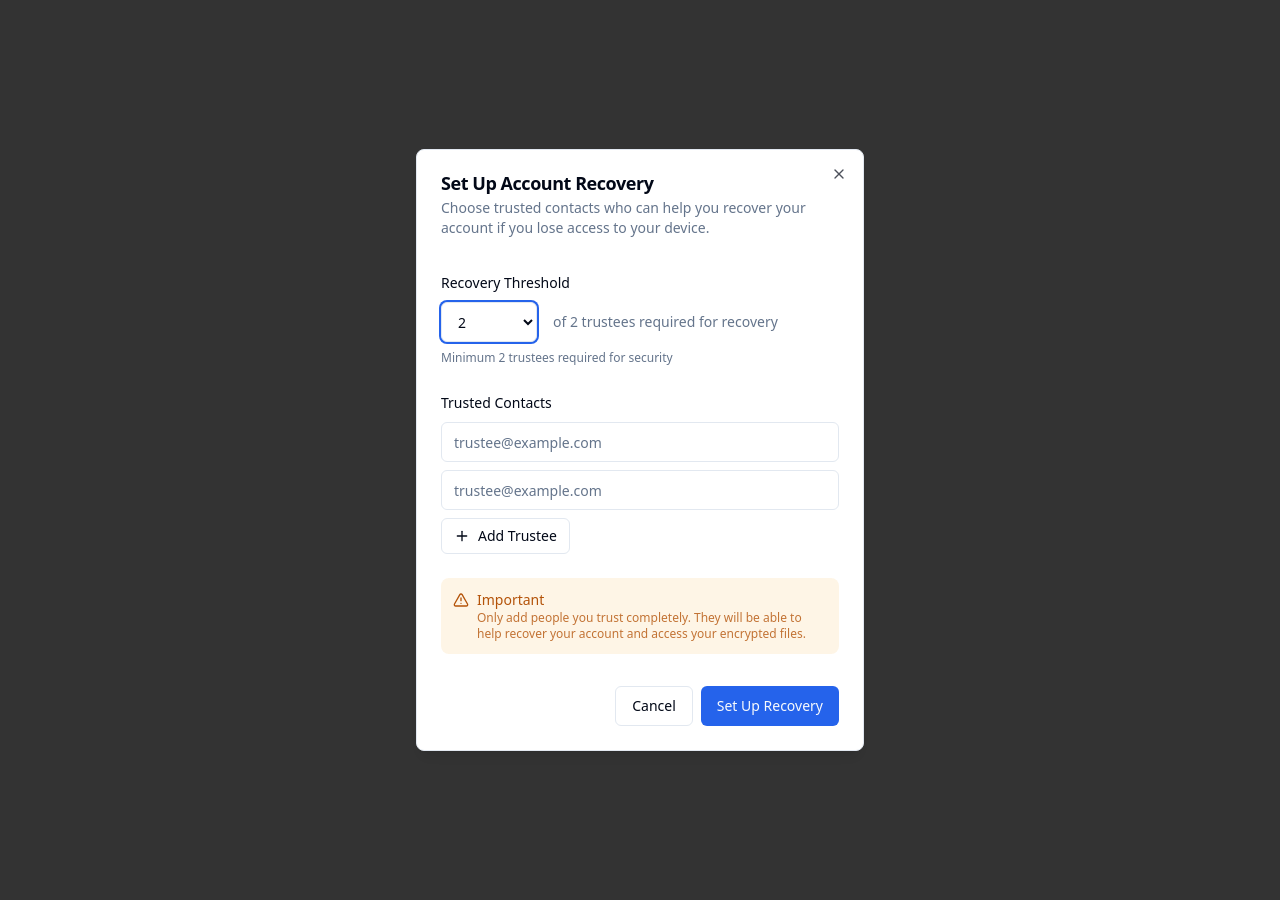
Test: RecoverySetupDialog › interactions › should show error for empty email
Type "test@example.com" into the 1st field with placeholder "trustee@example.com". click: (640, 442)
box: [441, 422, 839, 462]
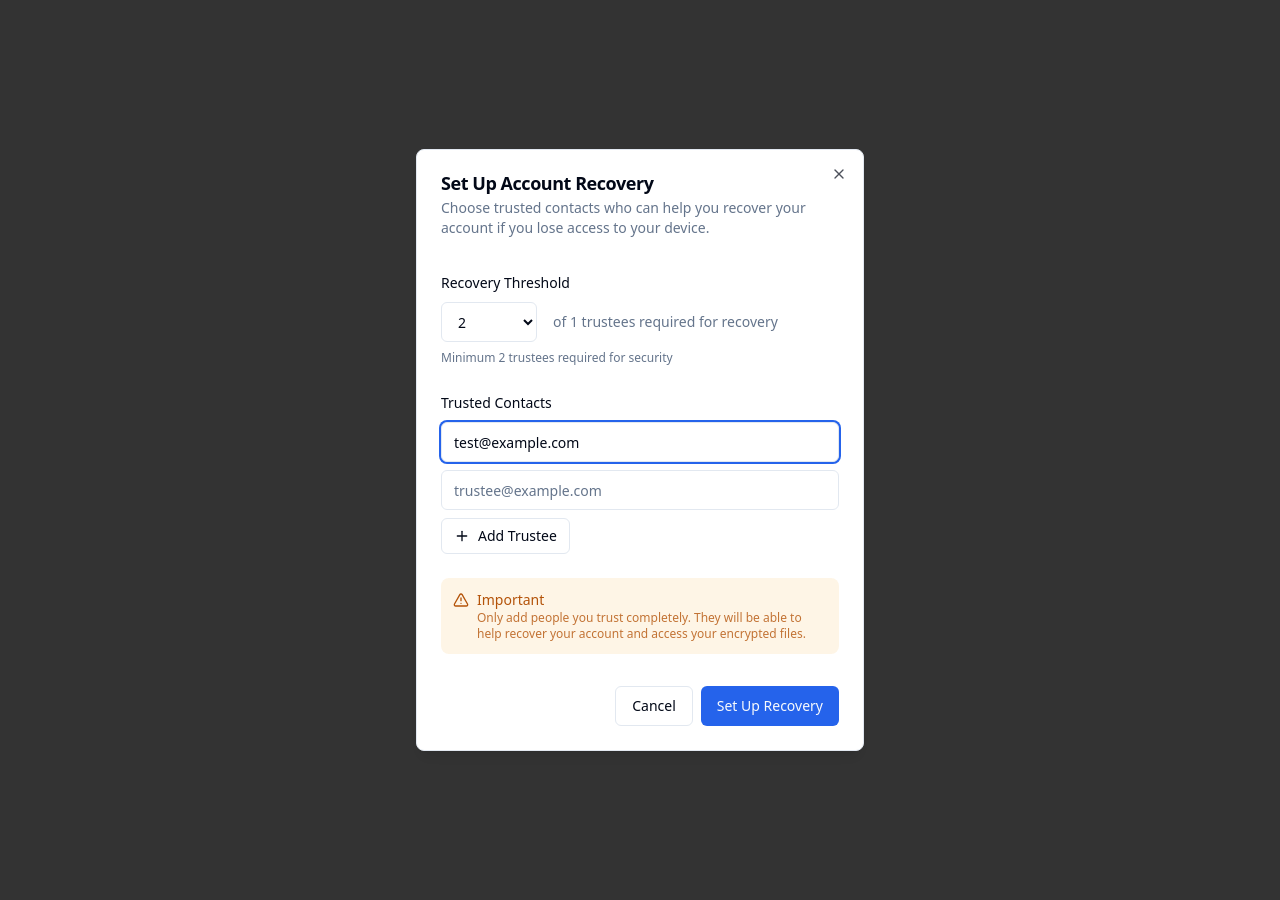
Click the button "Set Up Recovery". click: (770, 706)
box: [701, 686, 839, 726]
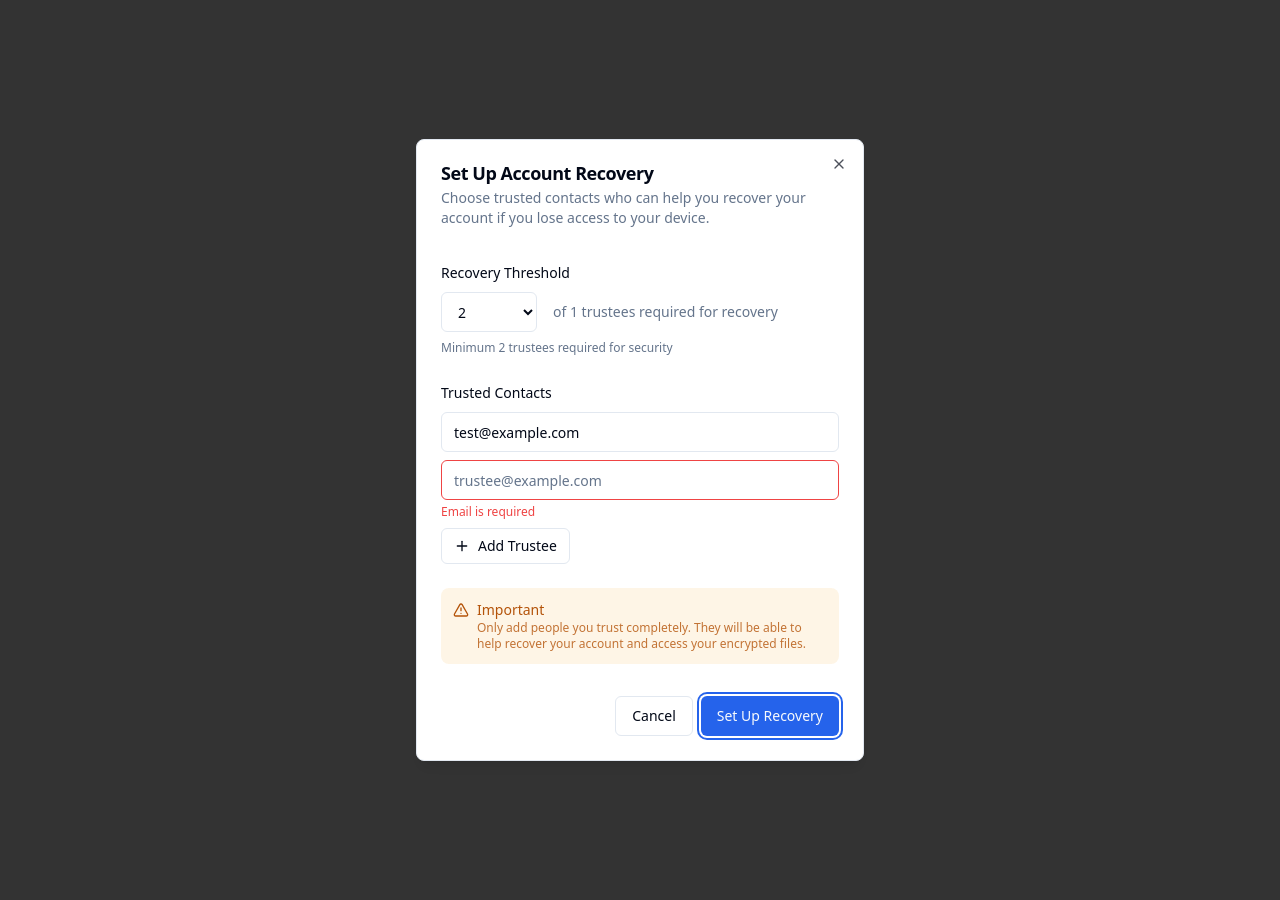
Now the text "Email is required" is shown, box [441, 503, 535, 520]
